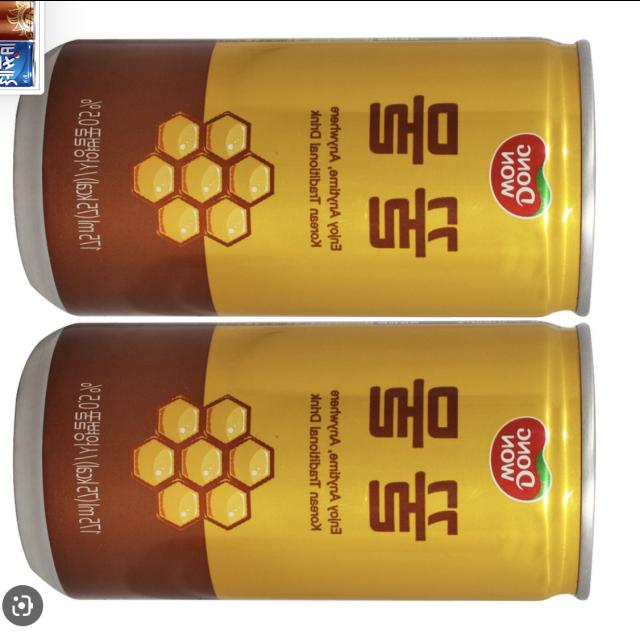can: (9, 24, 611, 328)
